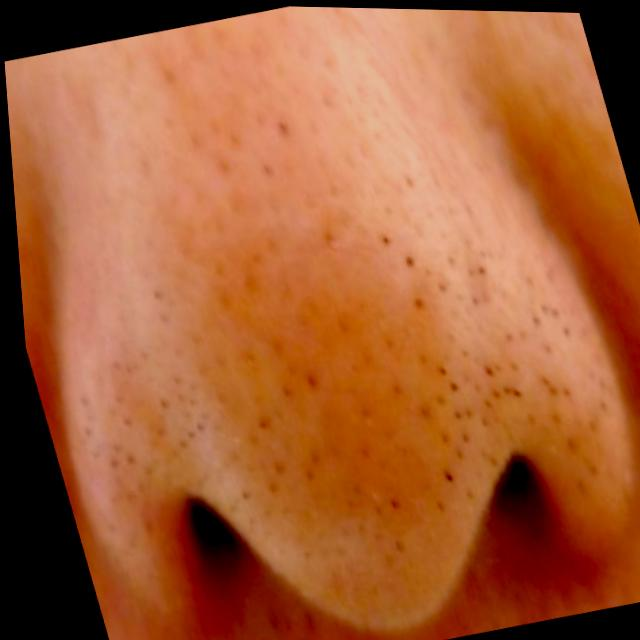blackhead: (142, 173, 548, 612)
